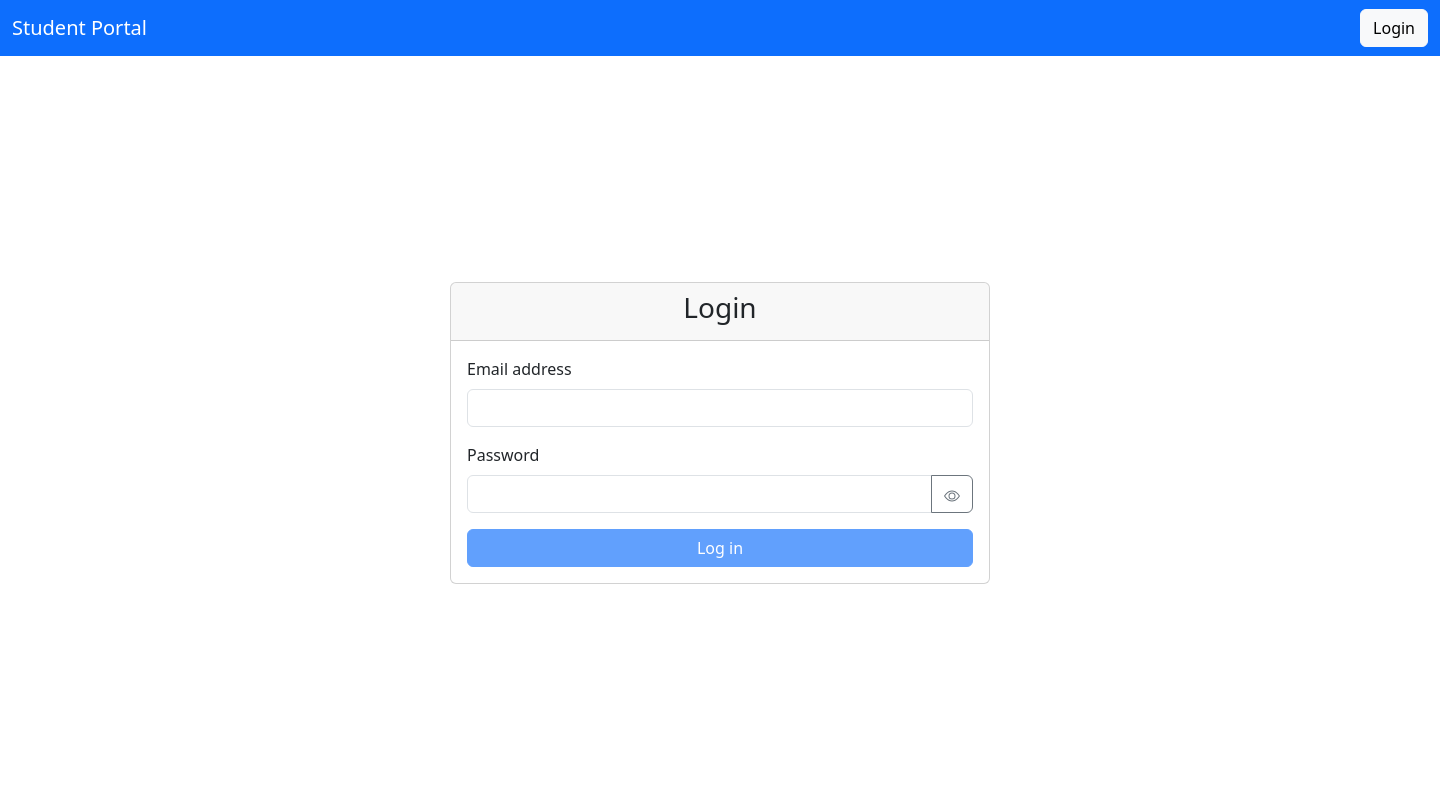
Accessibility (§2.5) › Login page: the password show/hide toggle has an accessible label and the pressed state is announced via its label swap
Click the button named "show password": (952, 494) x1=931 y1=475 x2=973 y2=513
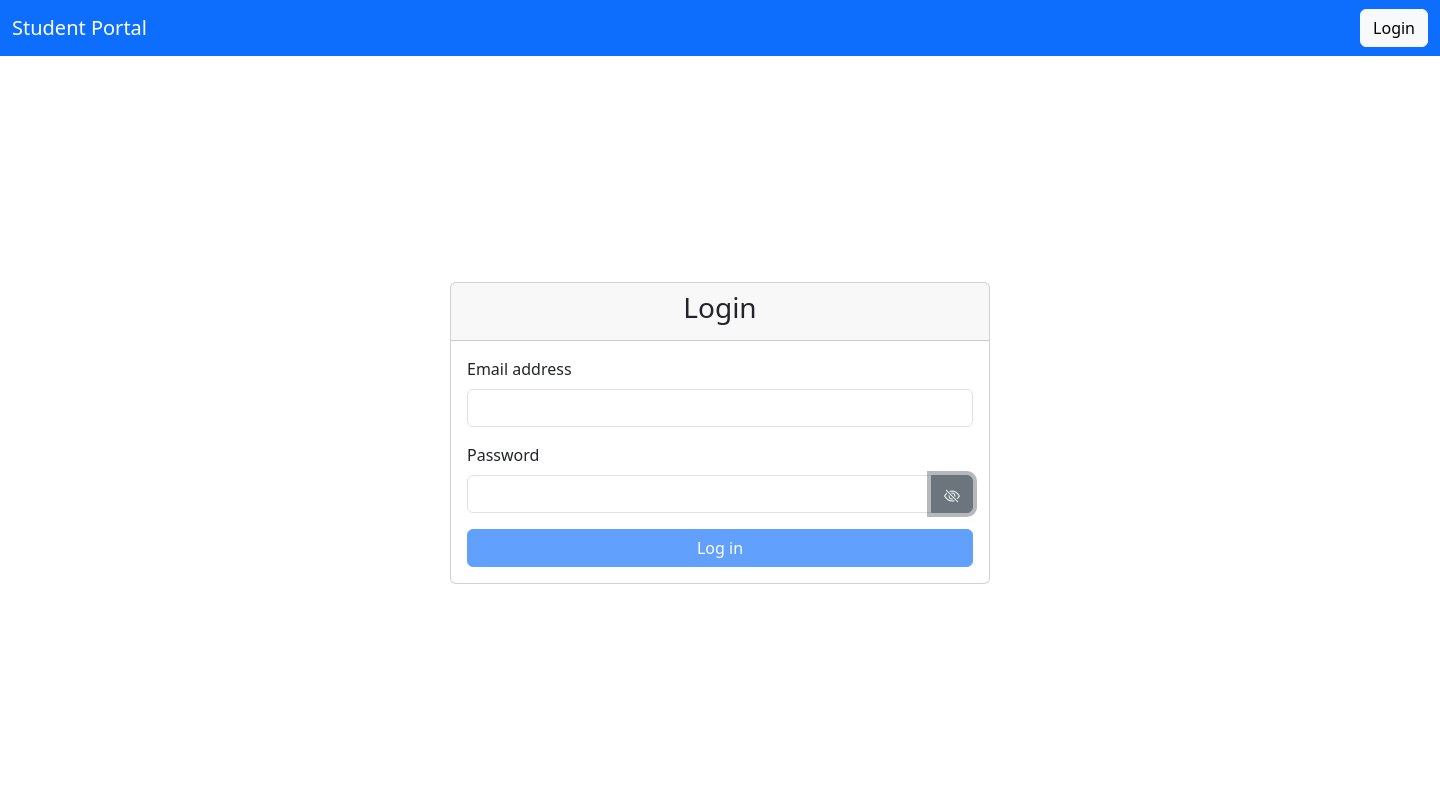
expect the button named "hide password" is shown: met, box x1=931 y1=475 x2=973 y2=513
